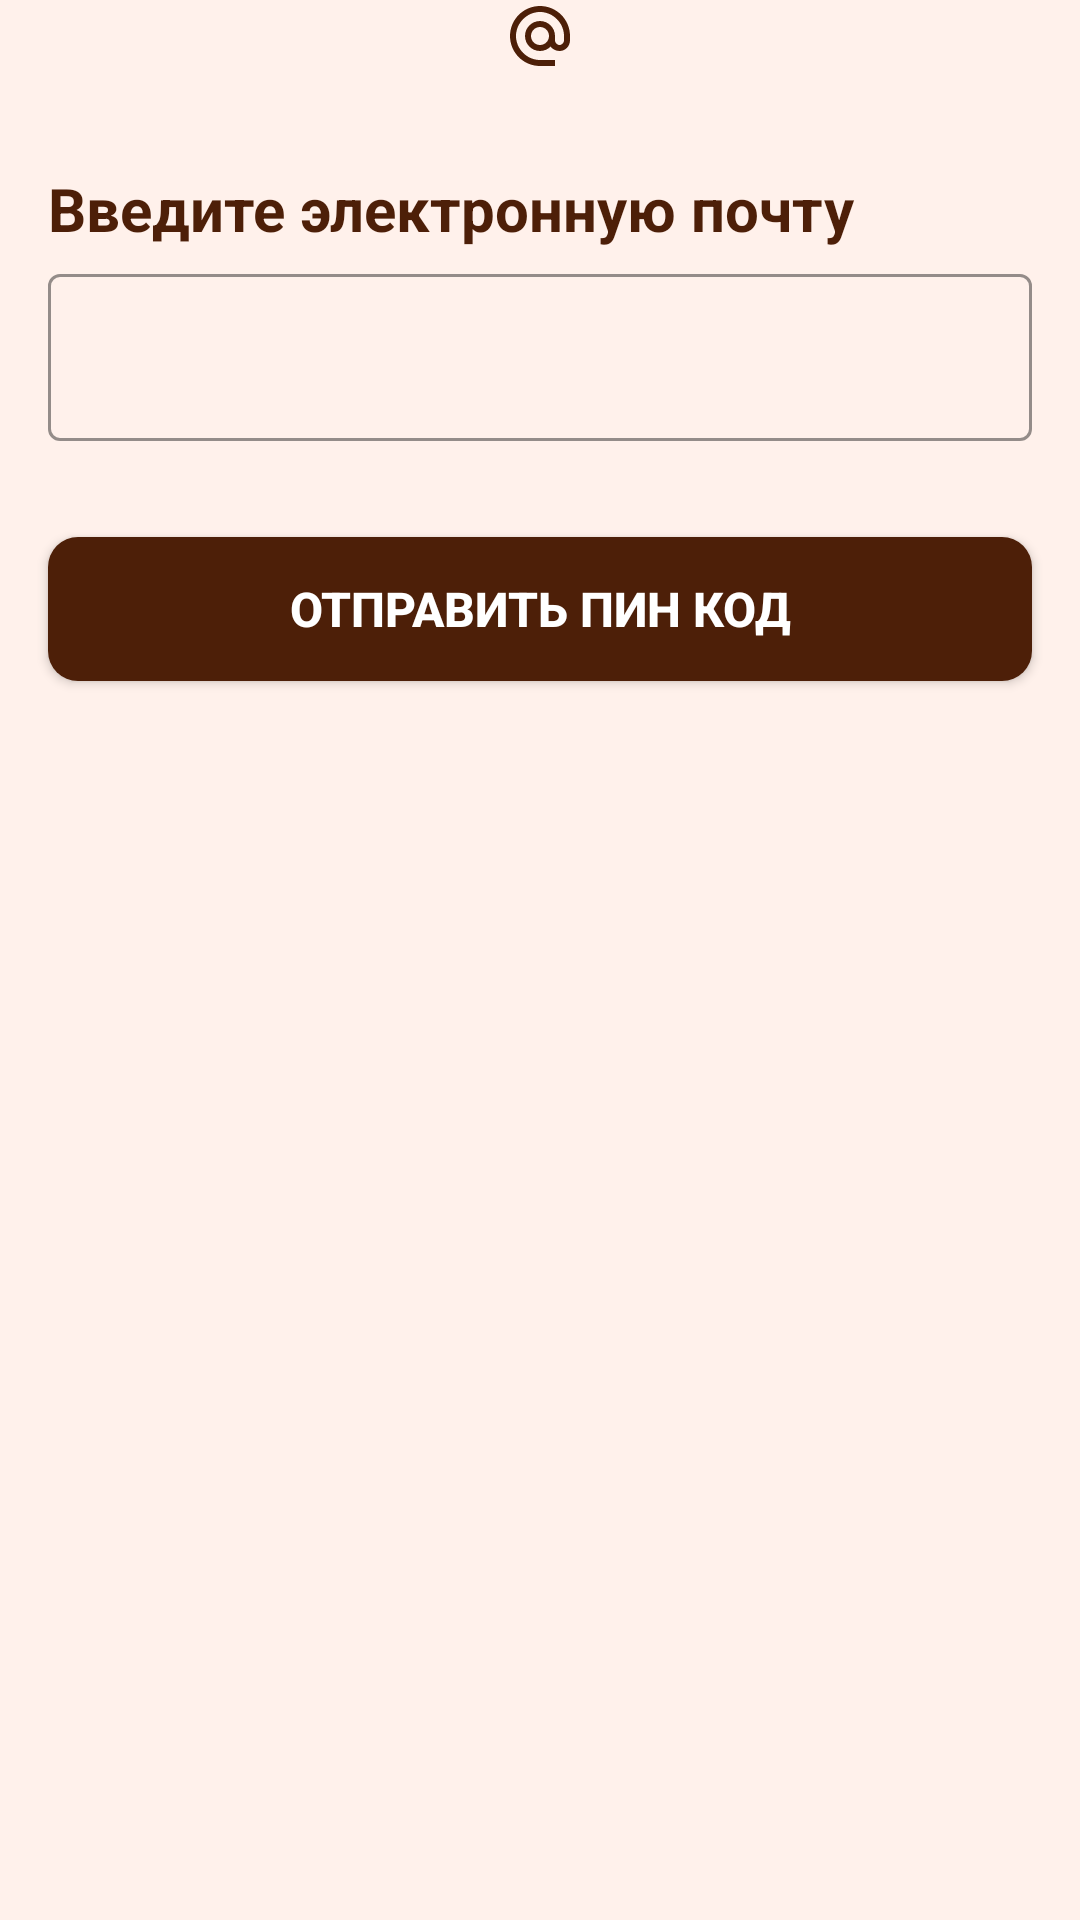

Icons on this 1080×1920 Android screen, each with the point to tap as (x,y):
email: (540,36)
